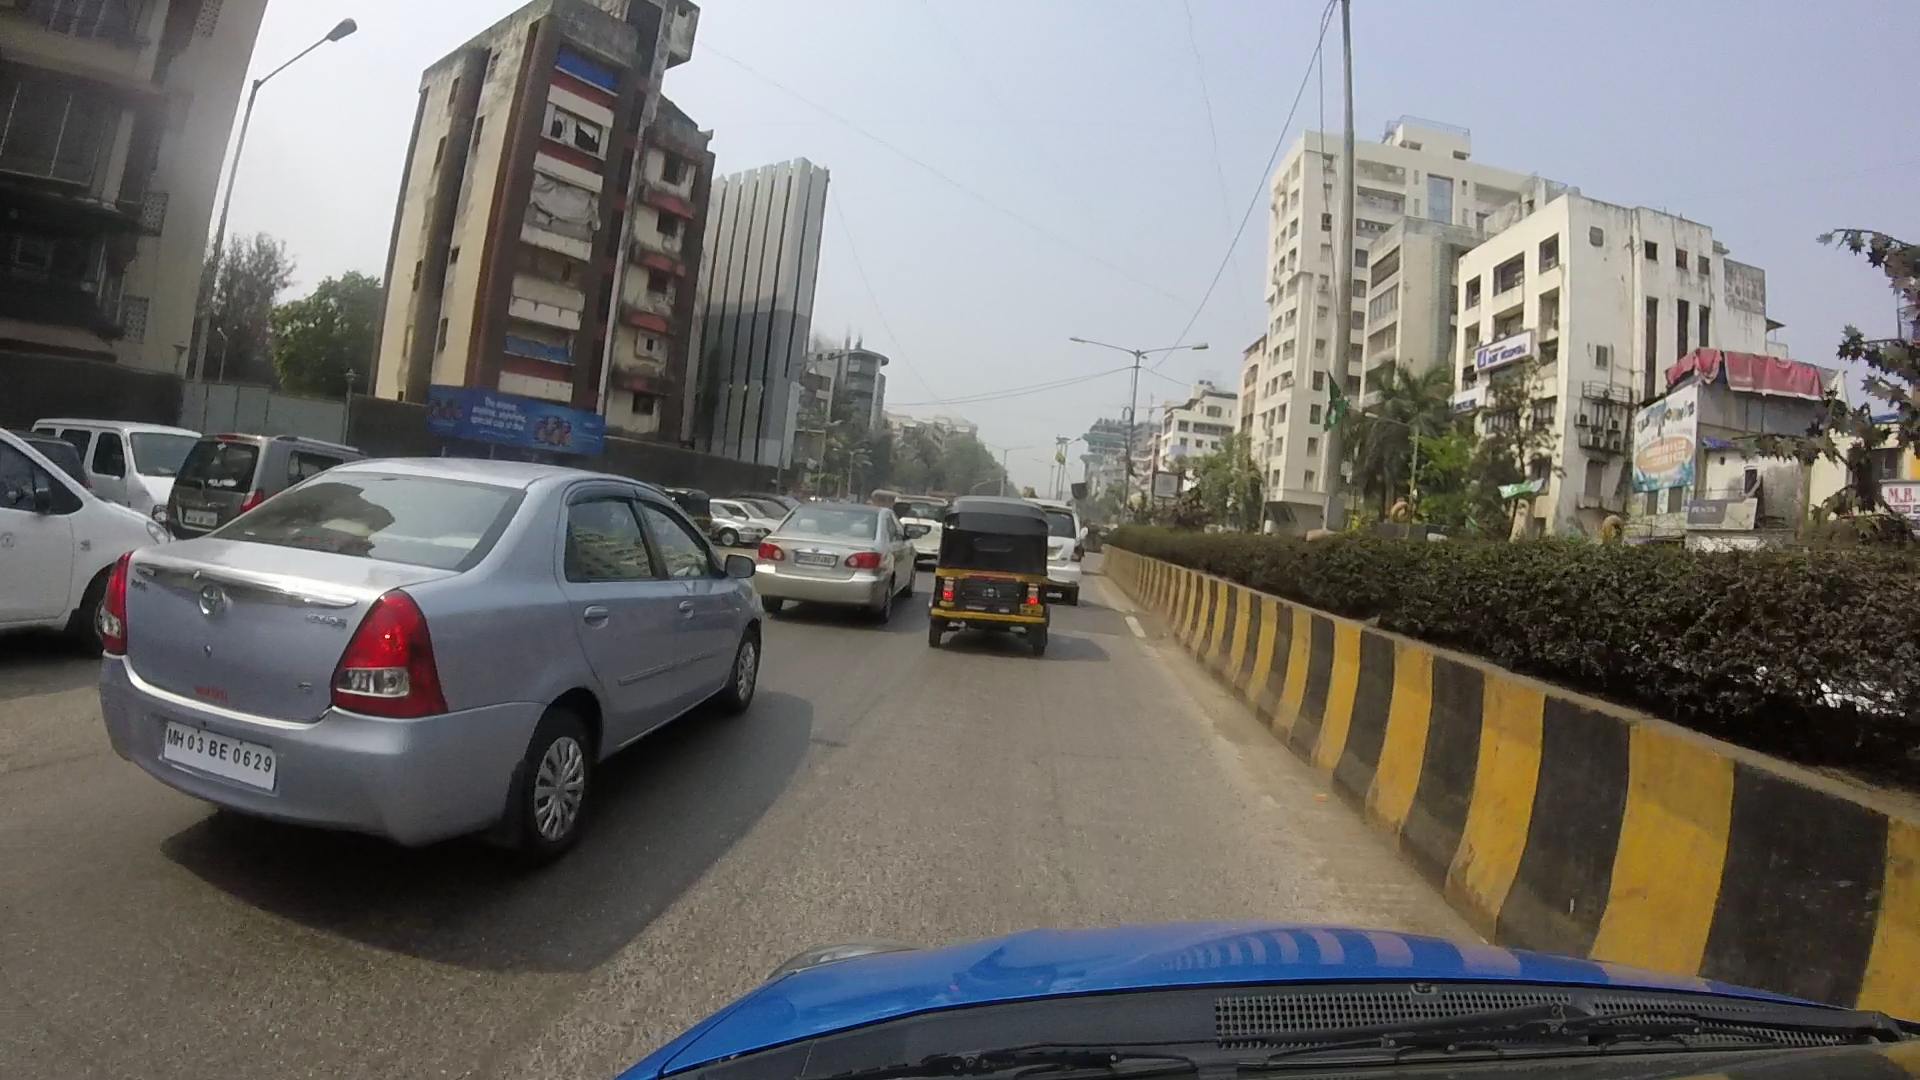car: (119, 451, 766, 833), (8, 433, 149, 642), (764, 489, 905, 624), (171, 425, 340, 516)
rickshaw: (922, 504, 1055, 633)
